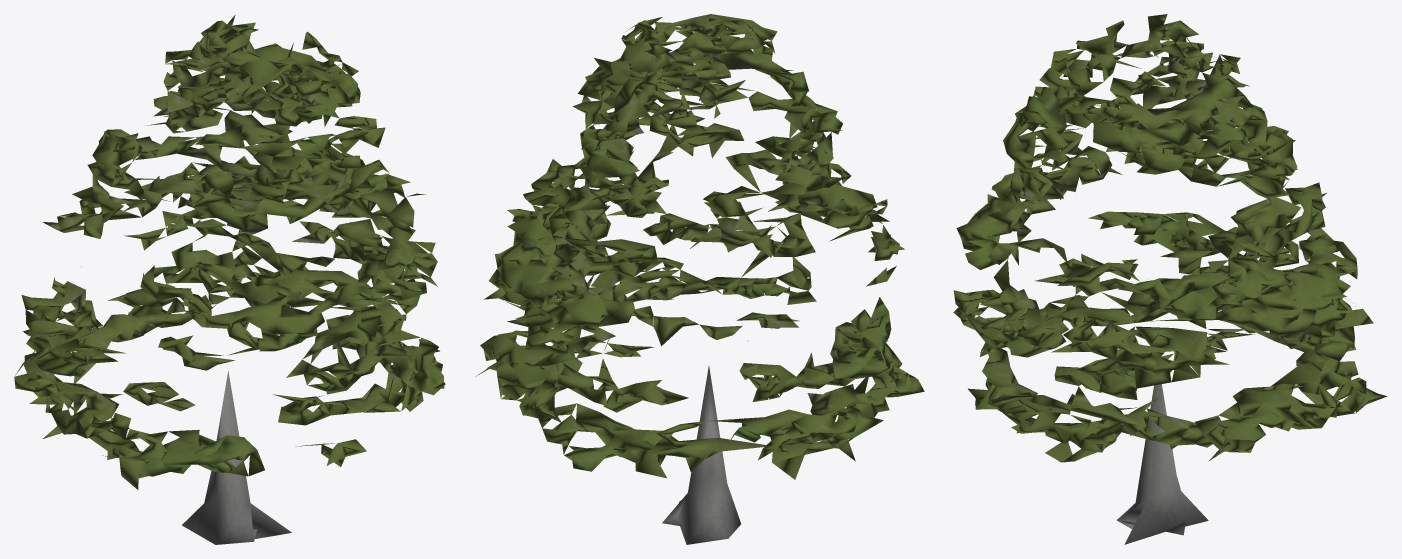
The model's file is beech_s502.glb.
3 views of the same model, side by side, from view 1: azimuth 30°, elevation 25°; view 2: azimuth 150°, elevation 25°; view 3: azimuth 270°, elevation 25° (orthographic).
Visible parts, largest first — view 1: geometry_0; view 2: geometry_0; view 3: geometry_0.
Boxes of the visible parts, left/top/right/bottom form: geometry_0: left=14, top=14, right=445, bottom=544; geometry_0: left=475, top=14, right=924, bottom=544; geometry_0: left=953, top=14, right=1386, bottom=544.
Size of the model in its own units: 0.7515 by 0.968 by 0.751.
Materials: 1 (1 with a texture image).
